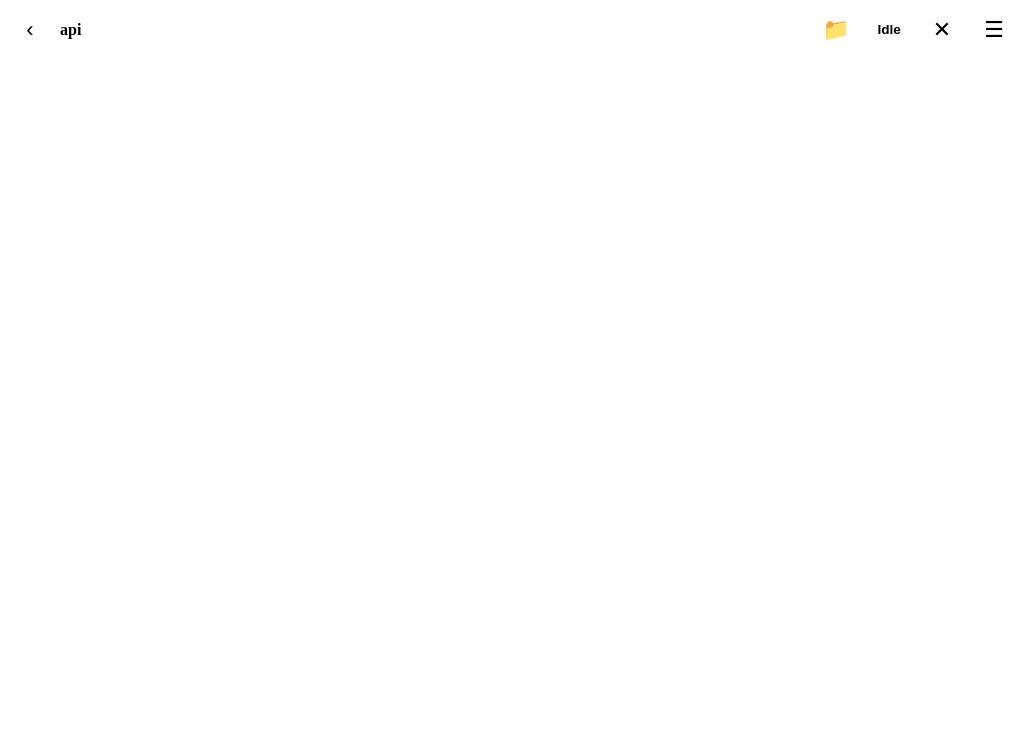
Test: TerminalView › disables zoom out at the minimum font size
The image size is (1024, 729).
Click the button named "Menu" at (994, 30), box [972,8,1016,52]
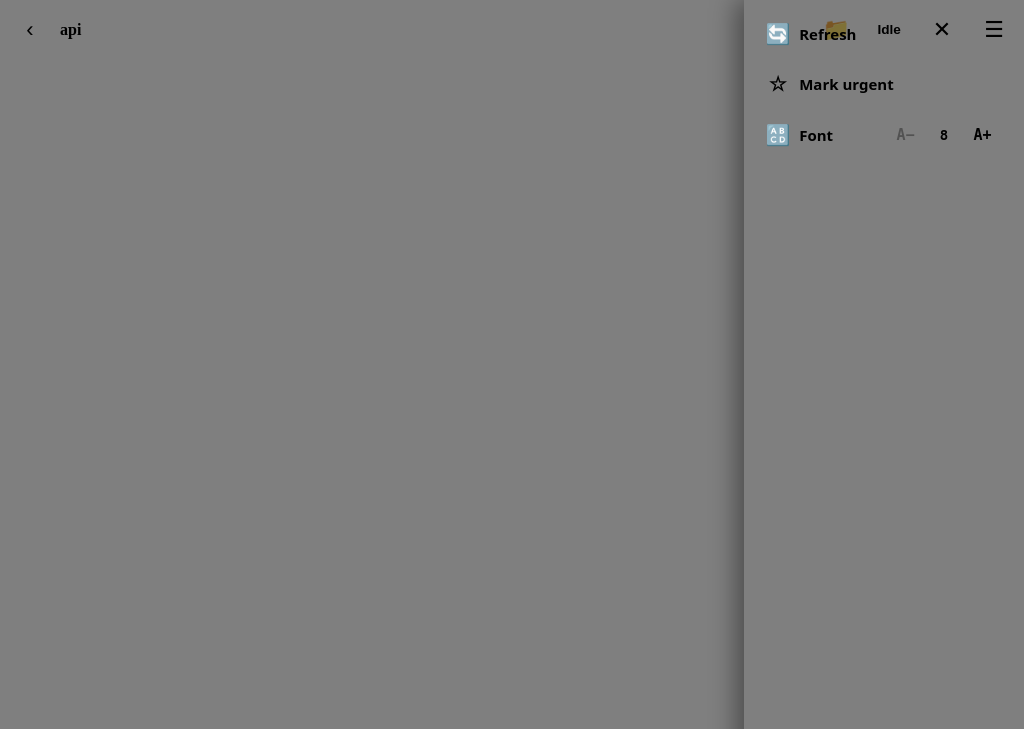
Now the button named "zoom out" is disabled, box [886,117,926,153]
Now the button named "zoom in" is enabled, box [962,117,1002,153]
